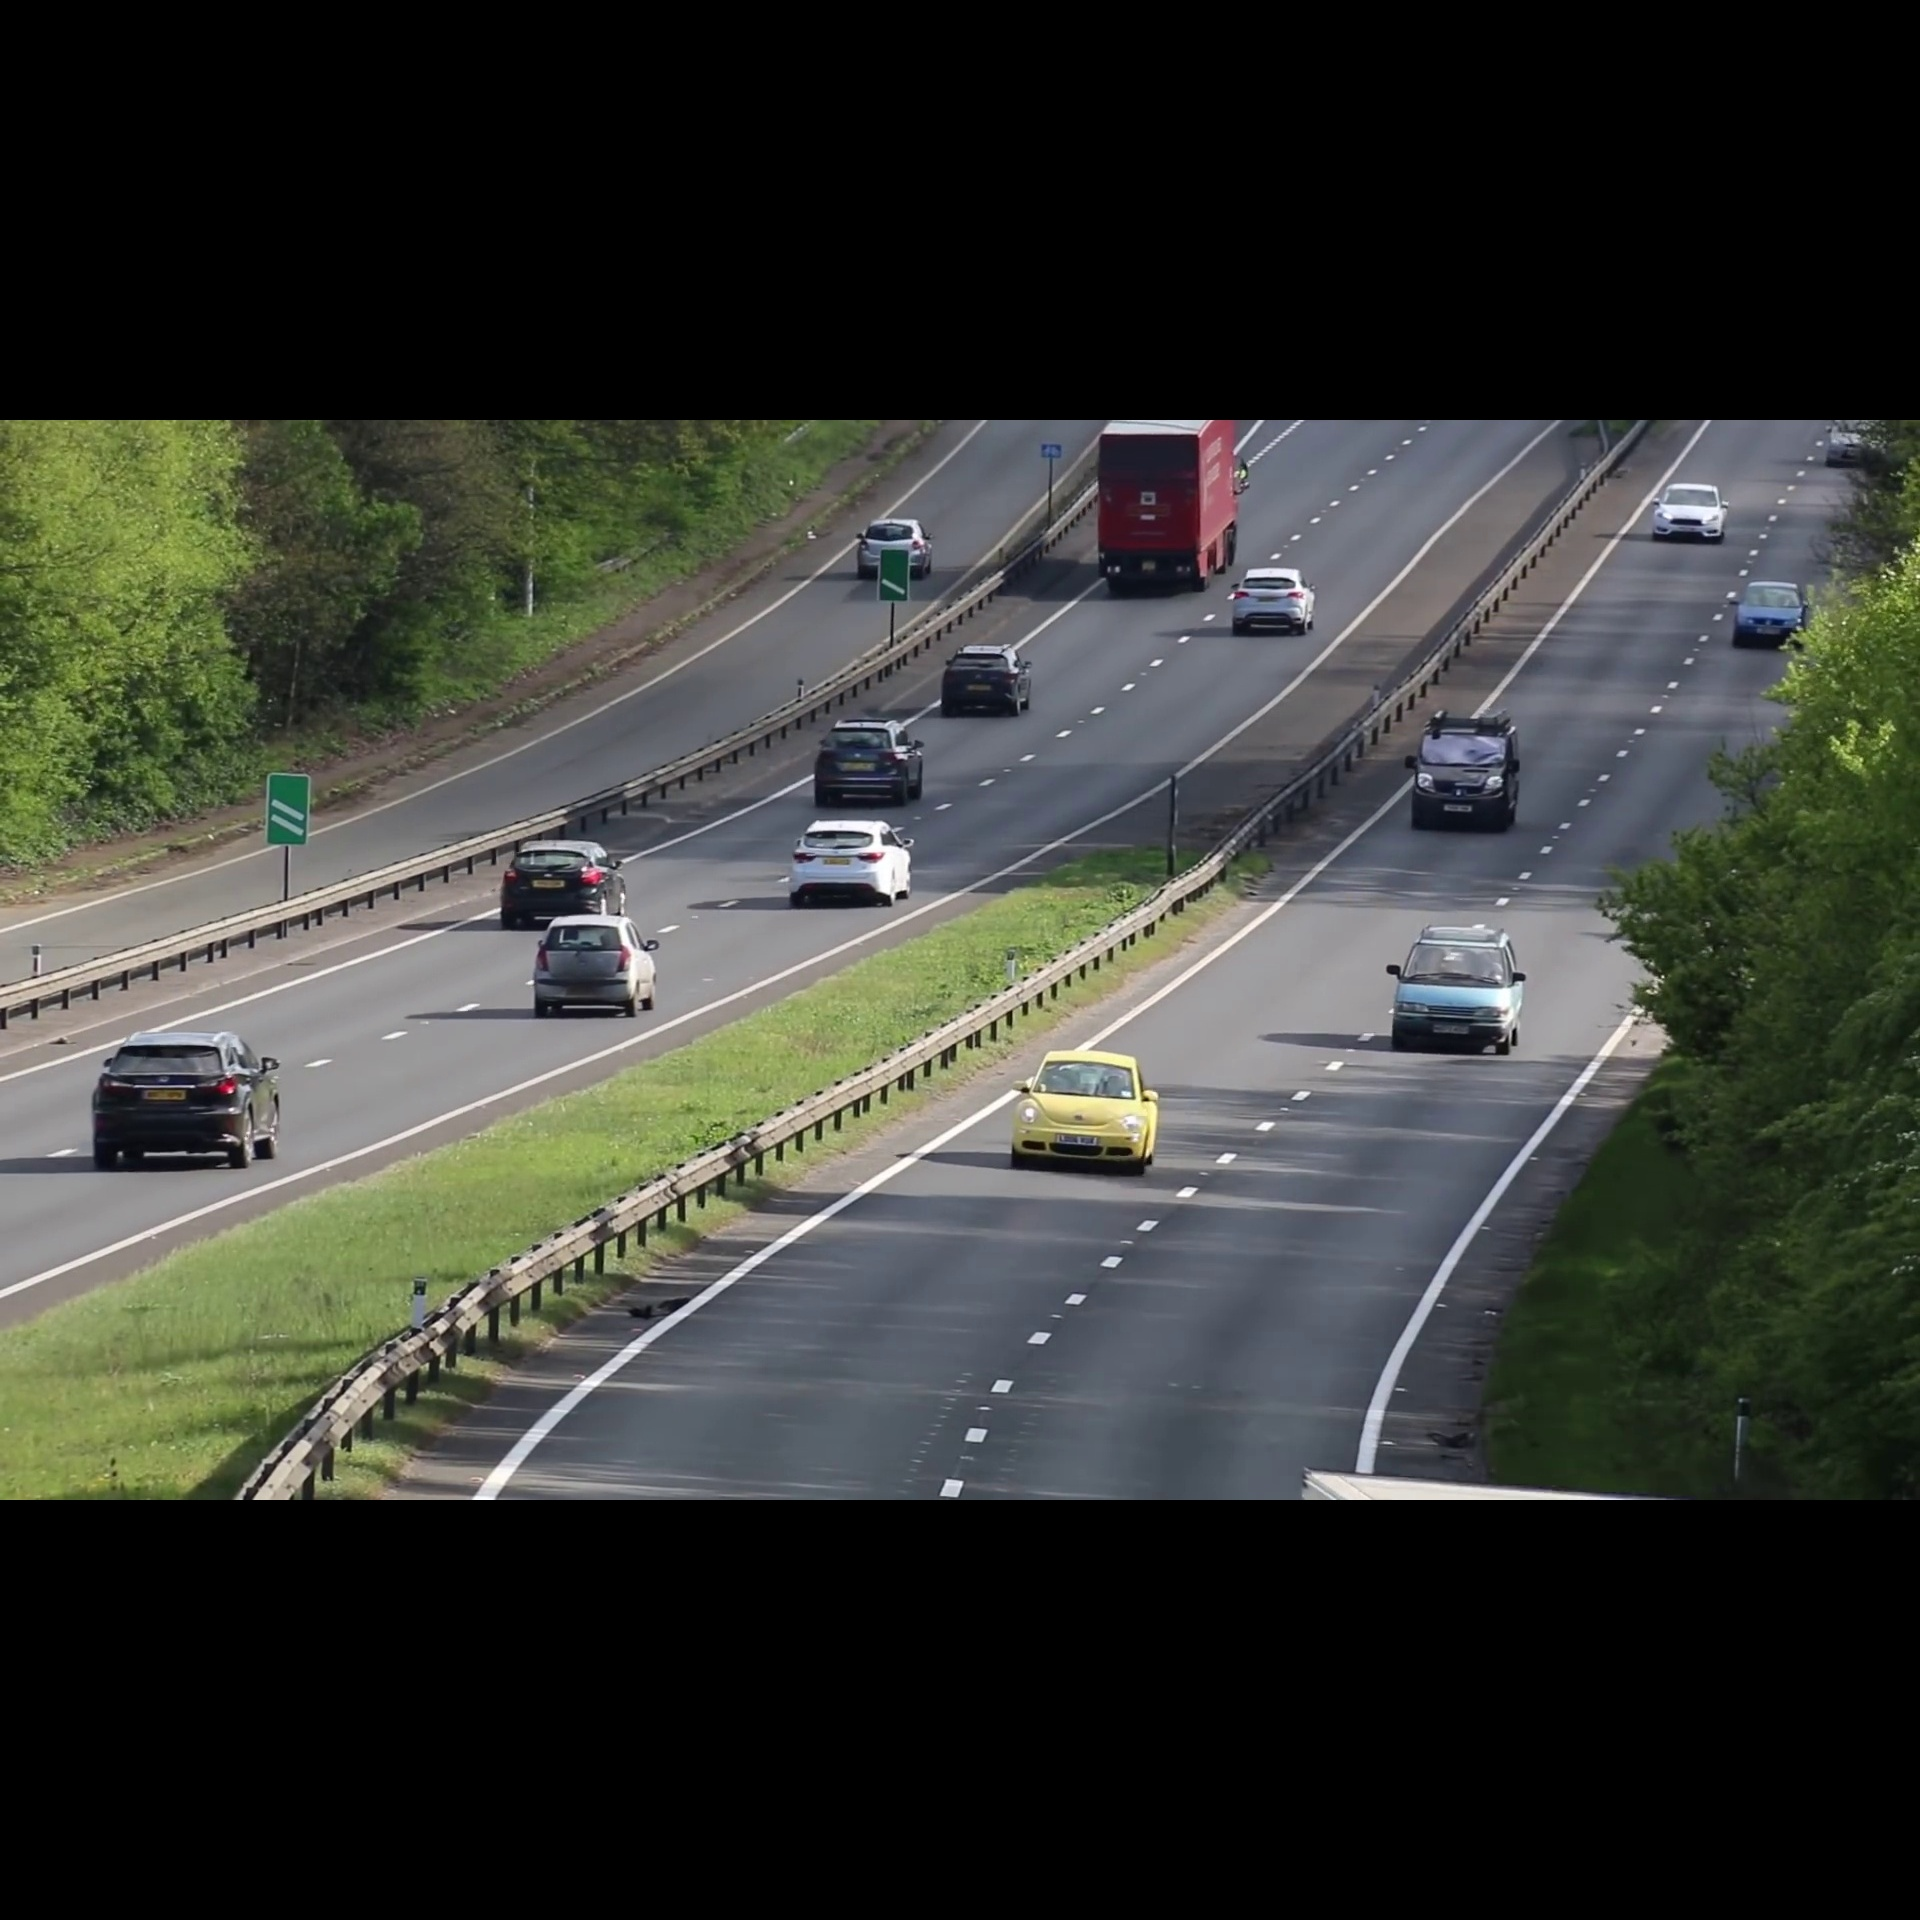vehicle: (77, 1023, 288, 1175), (1092, 418, 1252, 601), (1382, 921, 1537, 1060), (1004, 1044, 1164, 1173), (1407, 703, 1524, 839), (527, 918, 663, 1023), (781, 816, 920, 911), (498, 835, 631, 925), (809, 714, 932, 811), (935, 642, 1037, 721), (1227, 559, 1322, 636), (1721, 573, 1811, 652), (1647, 476, 1732, 543), (855, 513, 934, 582)
